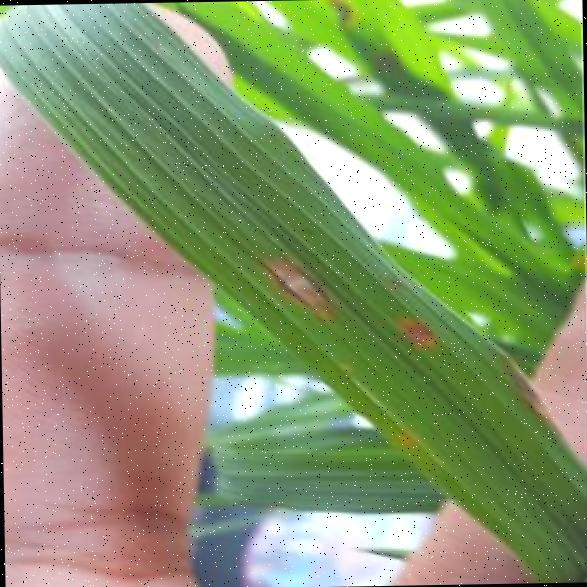Leaf_smut: (370, 292, 469, 384), (243, 224, 331, 325)
